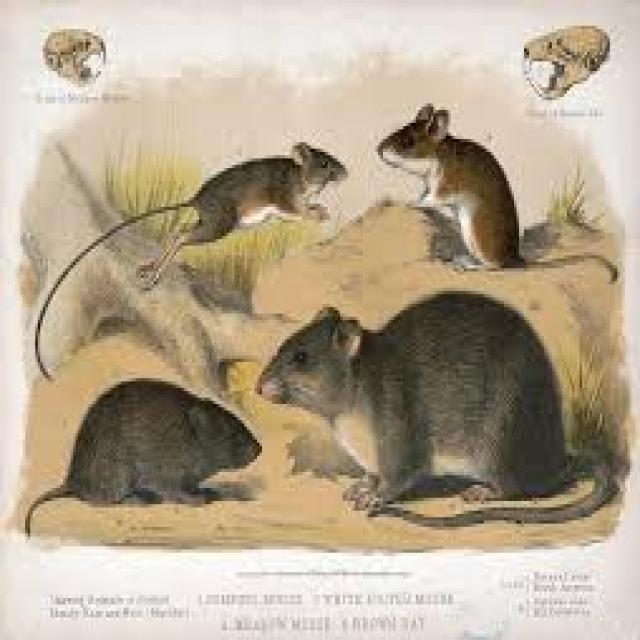Rat: (21, 31, 640, 639), (261, 276, 609, 530), (31, 331, 253, 549), (381, 101, 581, 251), (96, 141, 381, 243)
